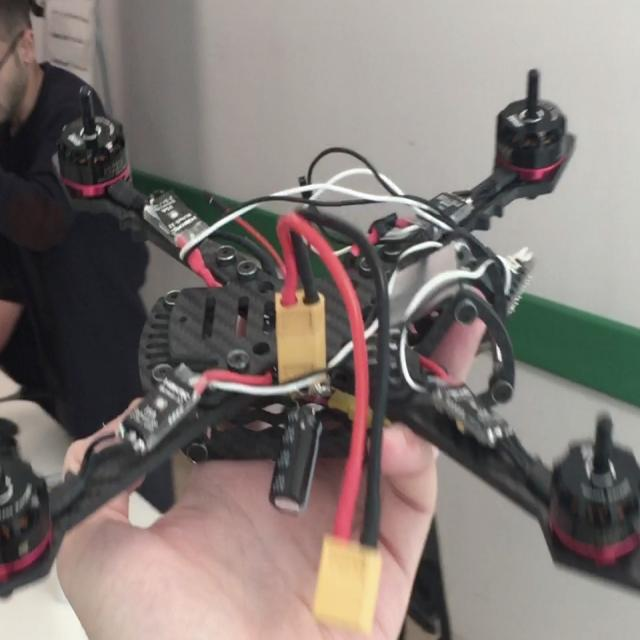drone: (0, 52, 640, 638)
